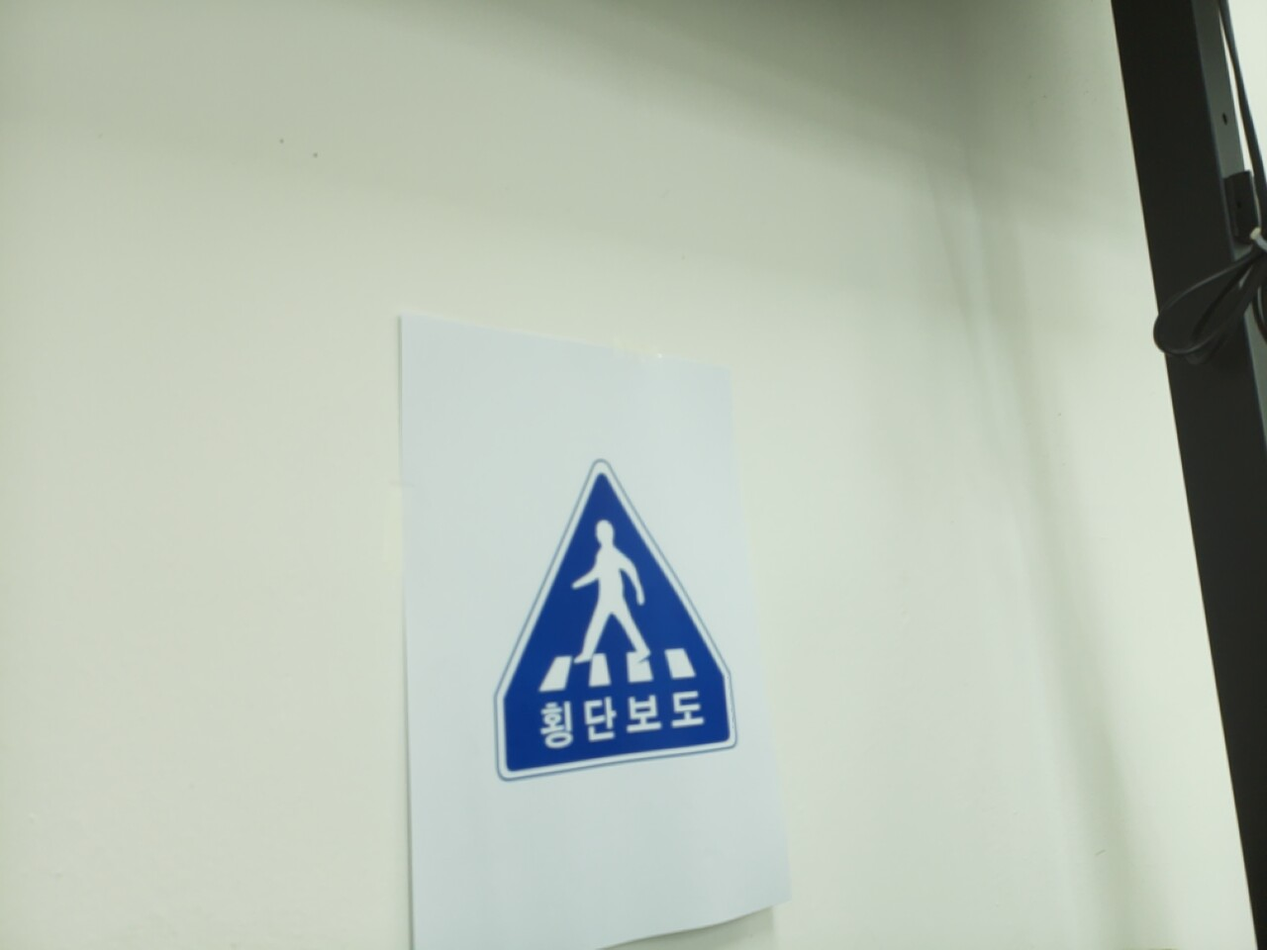crosswalk: (495, 463, 738, 782)
